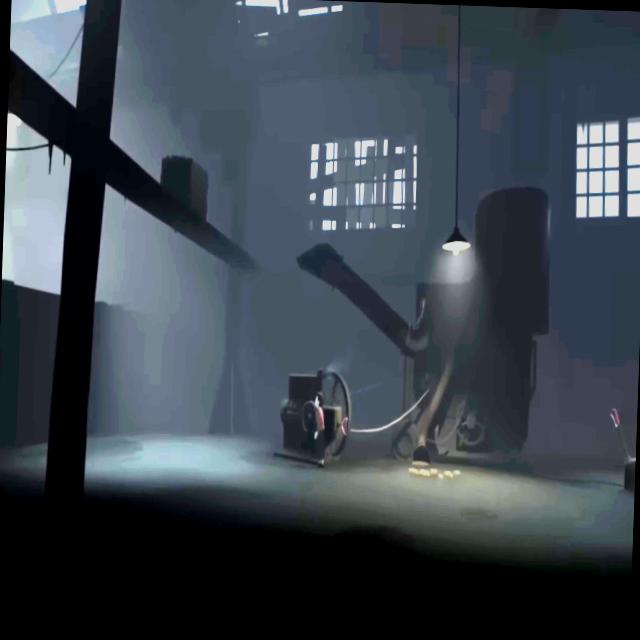boy: (311, 391, 330, 470)
